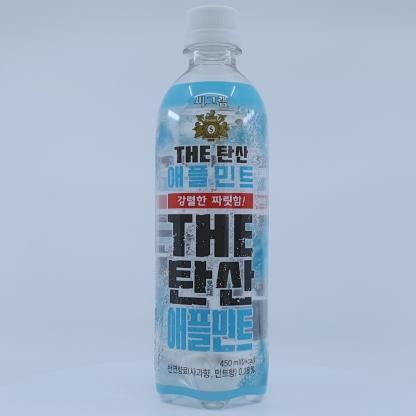------------450ML: (154, 5, 269, 410)
